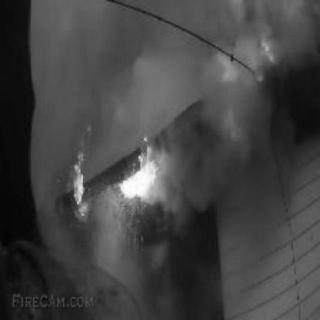Fire: (210, 34, 279, 84), (114, 152, 166, 200)
Smoke: (122, 3, 220, 134), (214, 108, 286, 221)
